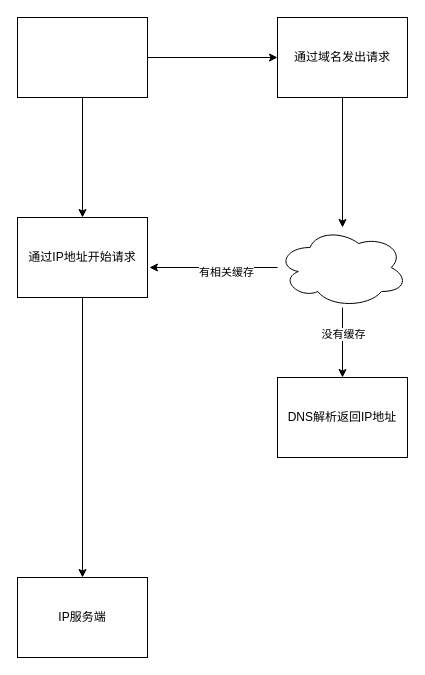
This 425x675 diagram has some shape labels left out. The centre of each missing label's shape, as x and y in pixels:
判断本地是否有缓存: point 342,267
开始发出请求: point 82,57
